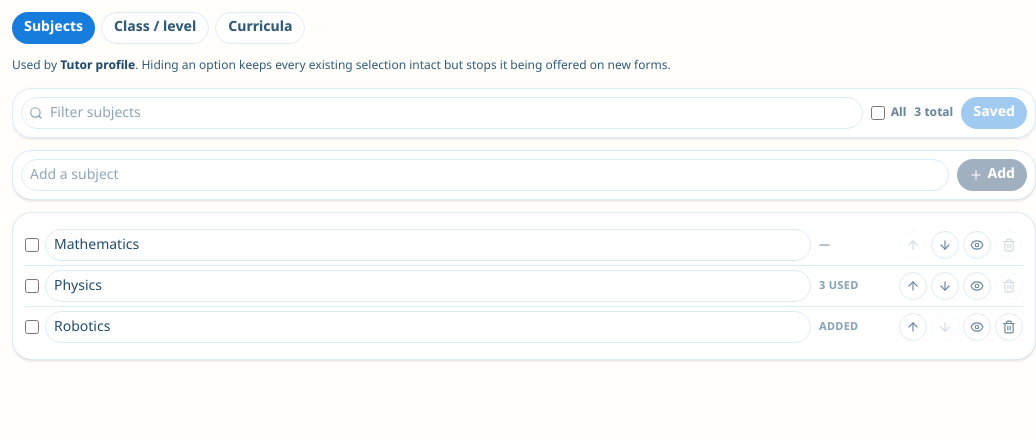
Test: option catalog manager › drops the selection when another catalog is opened
This screenshot has width=1036, height=440.
Click the checkbox named "Select Mathematics". click: (32, 245)
box: [25,238,39,252]
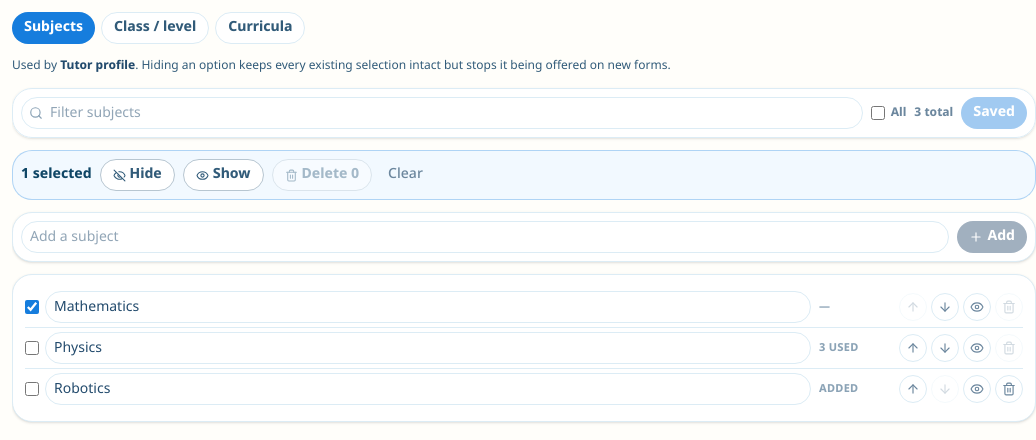
Now the text "1 selected" is shown, box [21,165,92,185]
Click the tab "Curricula". click: (260, 28)
box: [215,12,305,44]
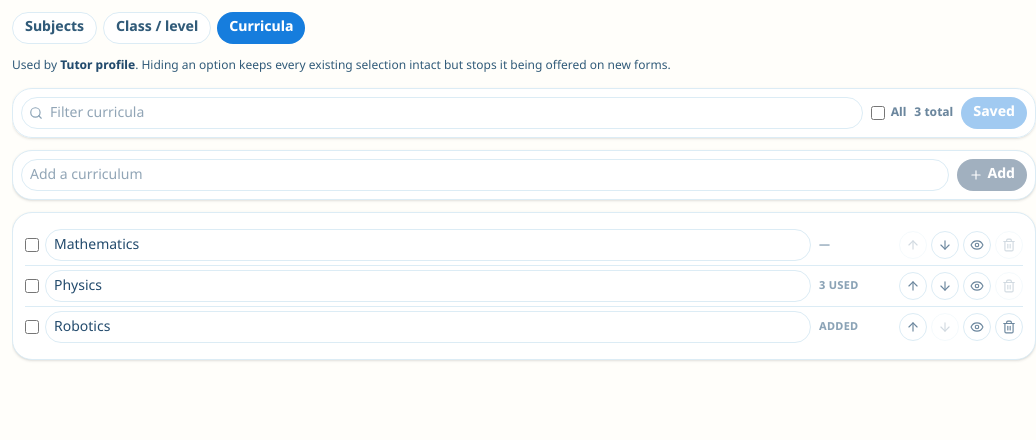
Now the text "1 selected" is gone
